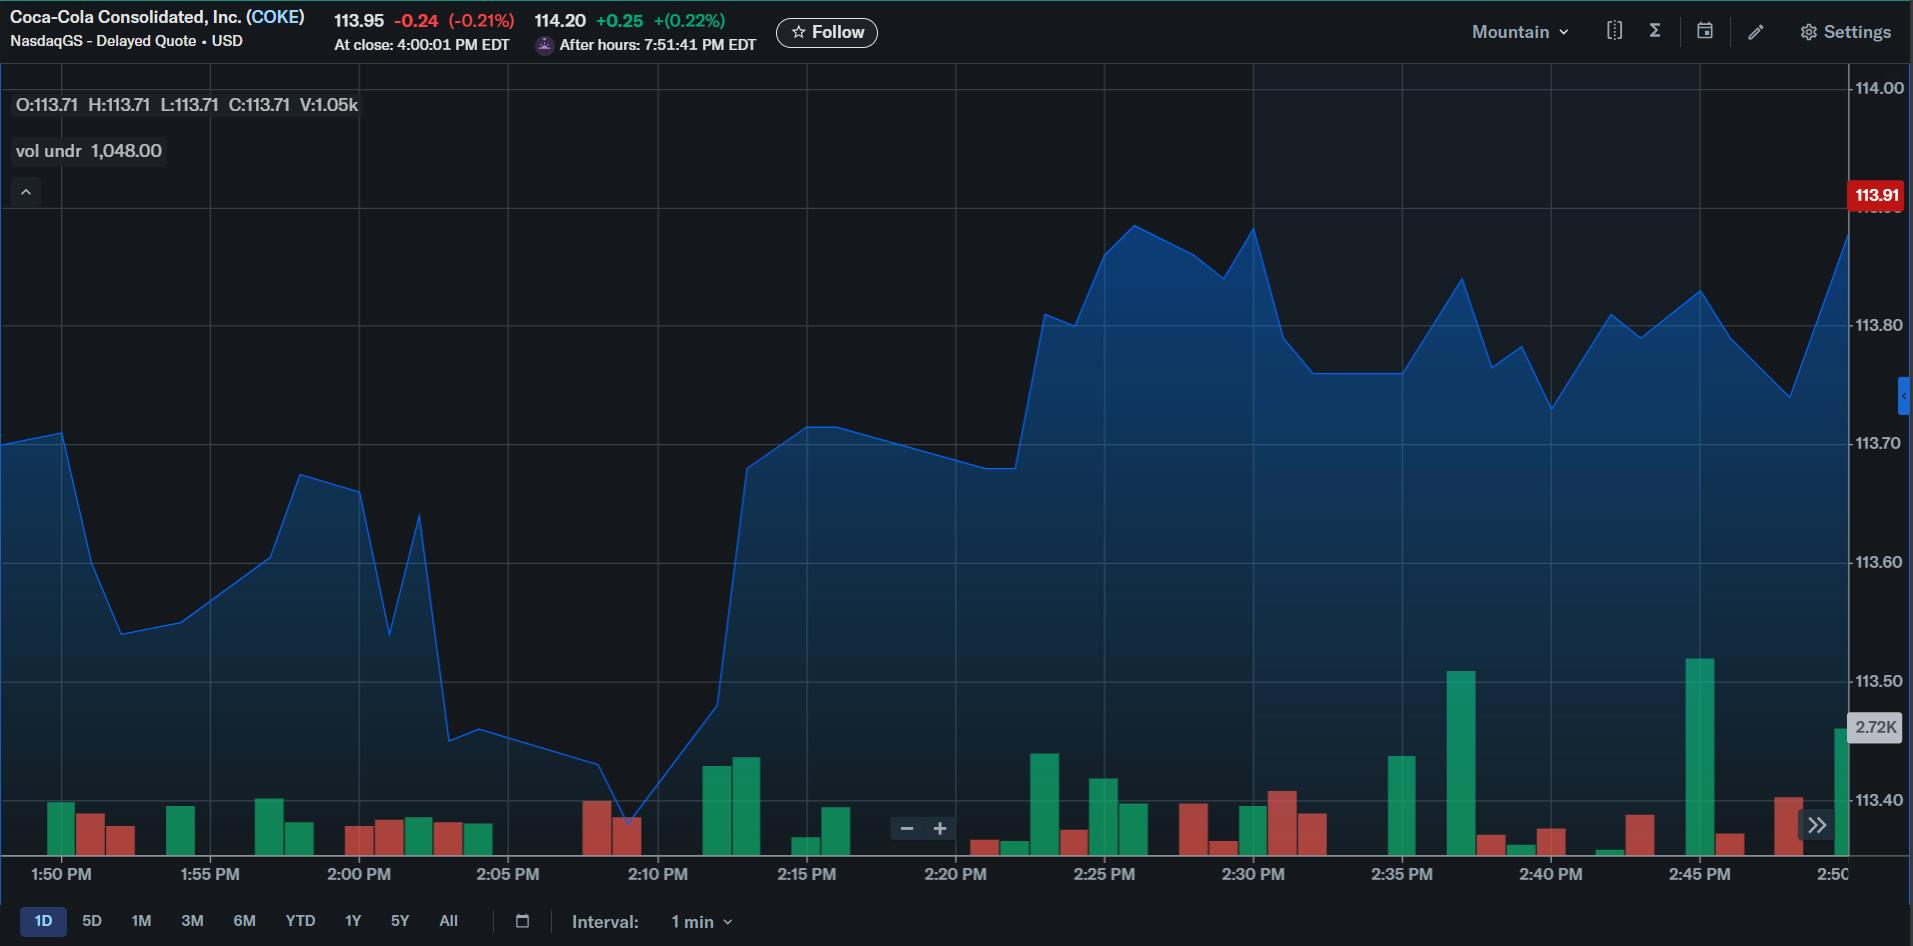Downtrend: (414, 510, 634, 825), (1164, 198, 1420, 430), (34, 414, 135, 690)
Sideways: (1545, 262, 1792, 460)
Uptrend: (644, 410, 828, 792), (1005, 190, 1148, 524), (153, 454, 354, 662)
